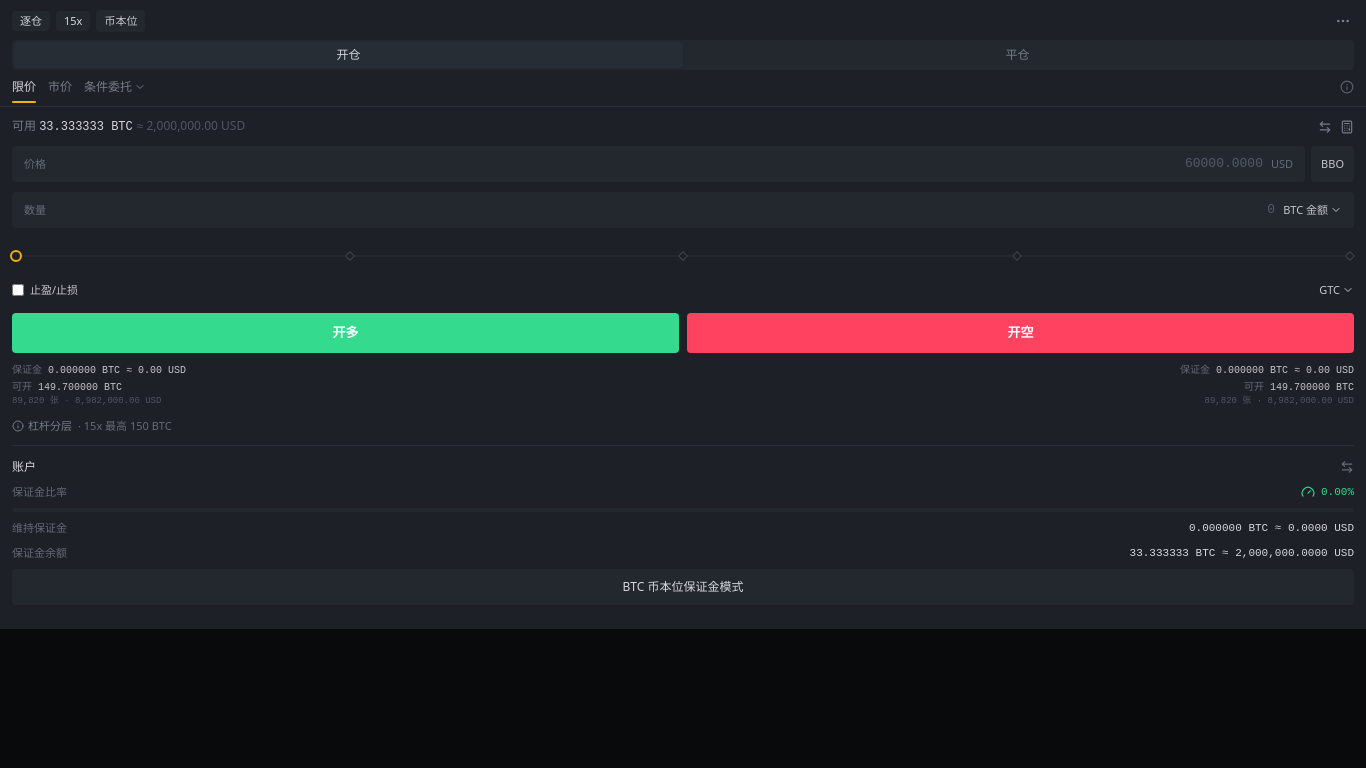
Test: 「杠杆分层」浮层 › 真币本位（BTCUSD）的档位以 BTC 计
What coordinates should you click on to do the following:
click the button with test id "leverage-tier-link"
I would click on:
 (92, 426)
Its box is [12,418,172,434].
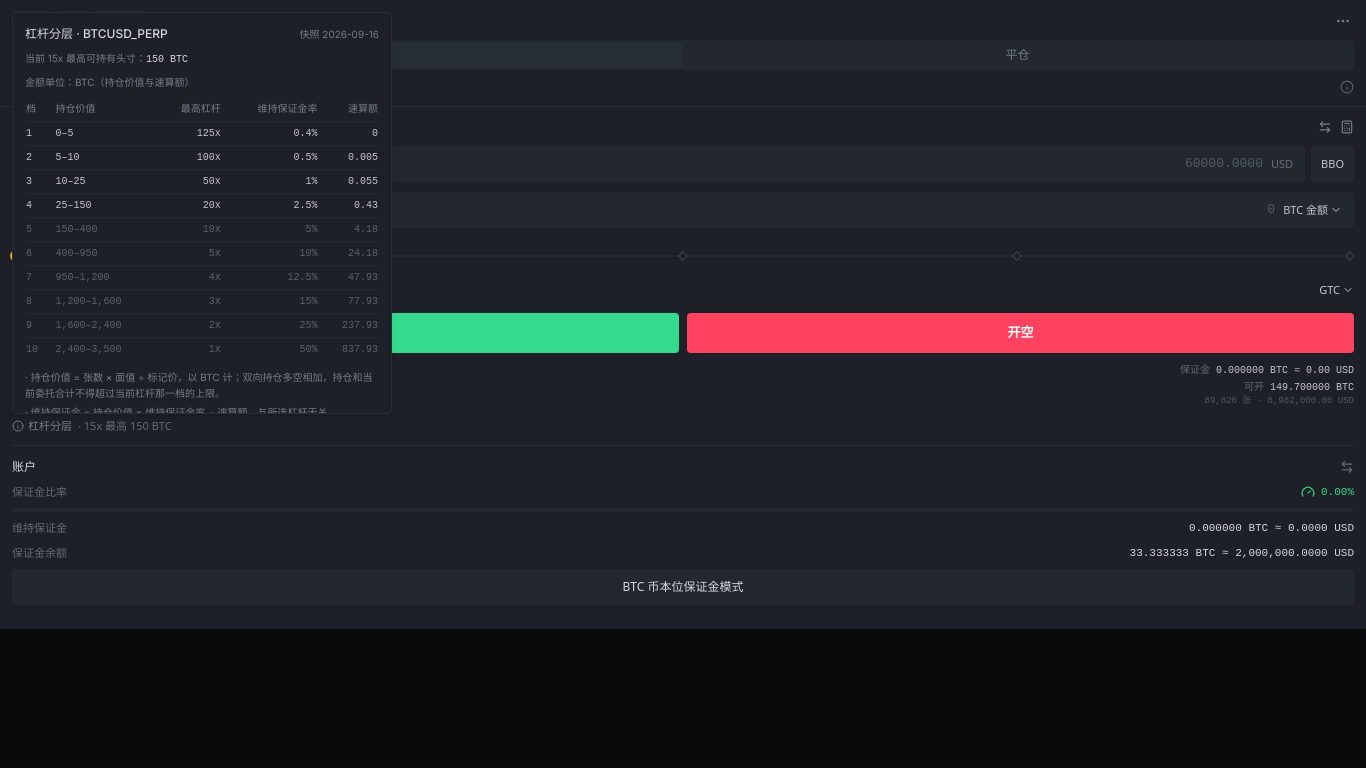
expect the text with test id "leverage-tier-unit" shows "金额单位：BTC": met, box [25,76,194,88]
expect the row with test id "leverage-tier-row" reads "1 0–5 125x 0.4% 0": met, box [25,122,379,146]
